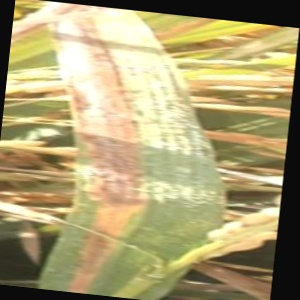Leaf_Blast: (71, 47, 191, 300)
